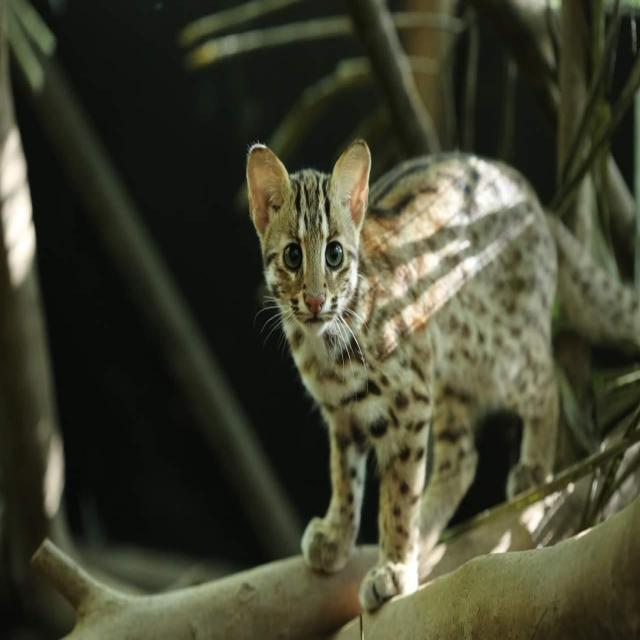leopard: (220, 114, 640, 586)
